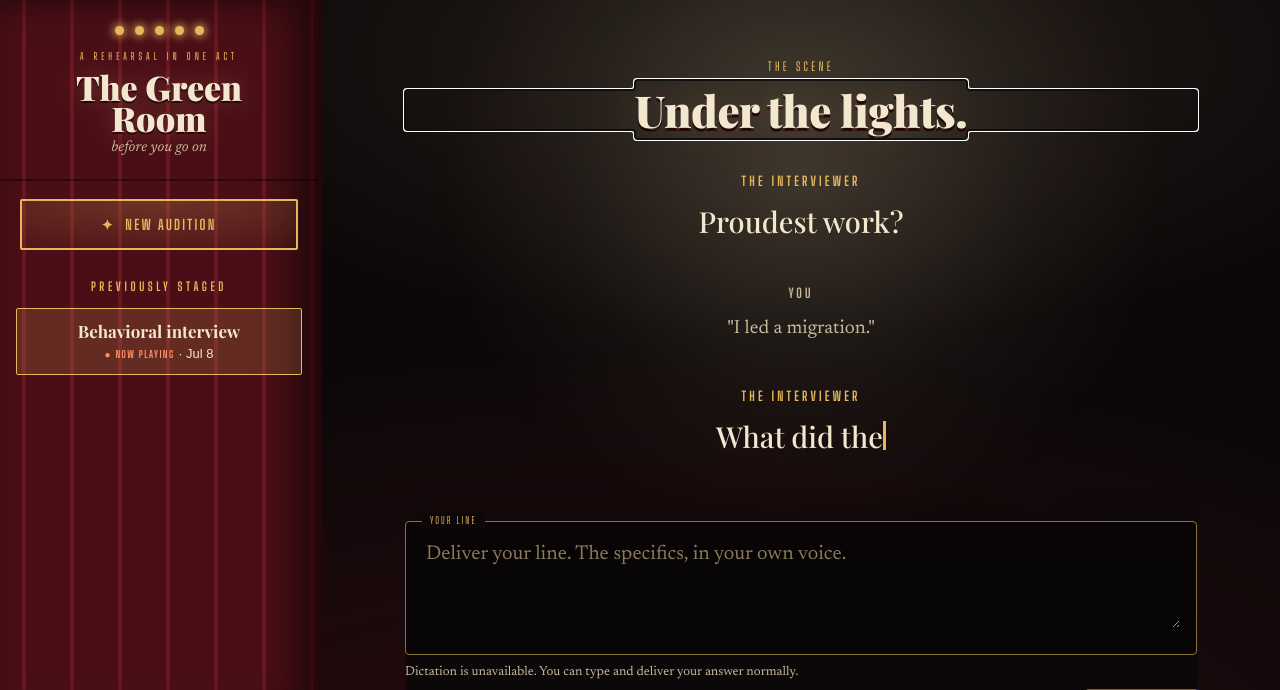
Test: App — durable reconnect › rejoins an in-flight run after a reload, then completes it without restarting
Note: The rejoined run continues to completion over the normal resume path.
Type "It taught me plenty." into the text box named "your answer". click: (801, 583)
box: [422,538,1180,628]
(page scrolled)
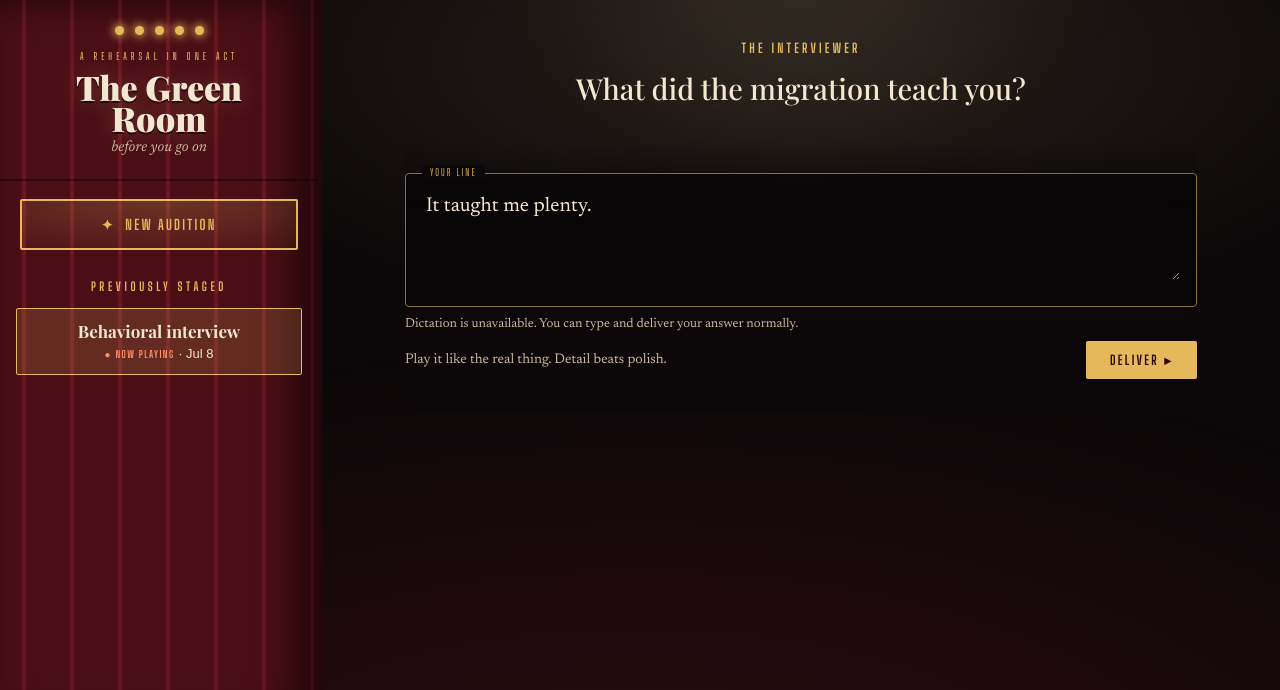
Click the button "Deliver ▸". click: (1142, 360)
box: [1086,341,1197,379]
(page scrolled)
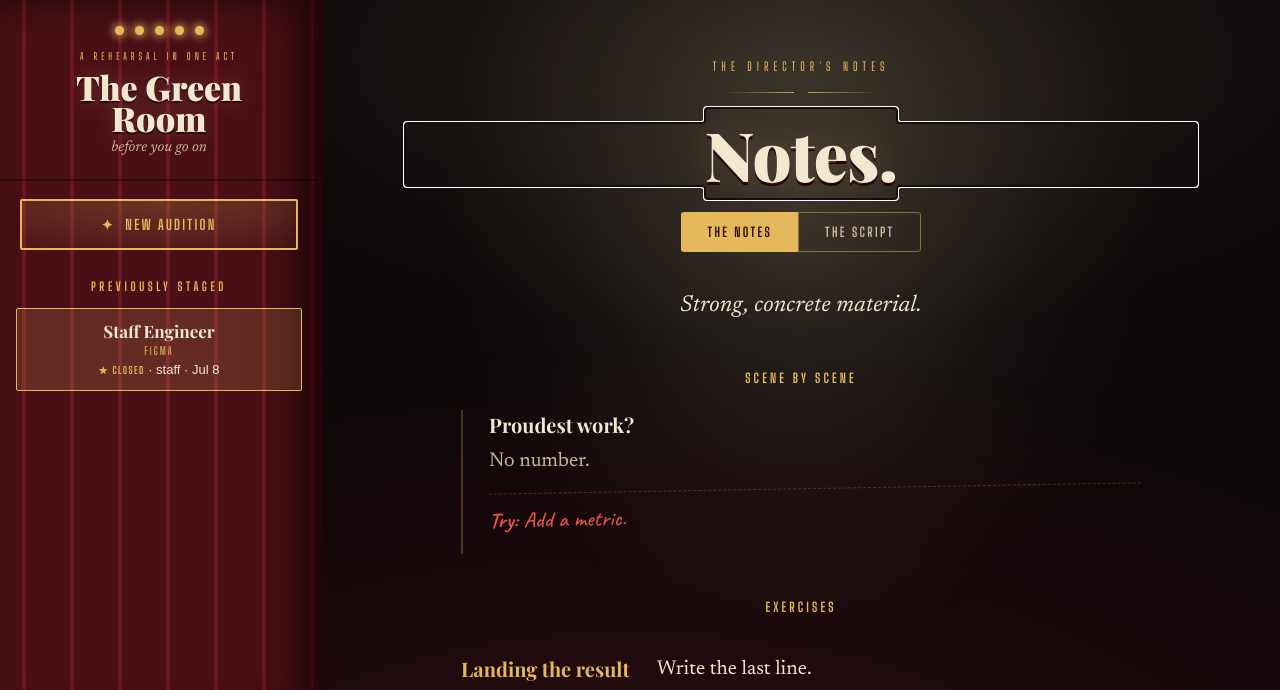
Expected: the text "Strong, concrete material." is shown, [680,294,922,316]
